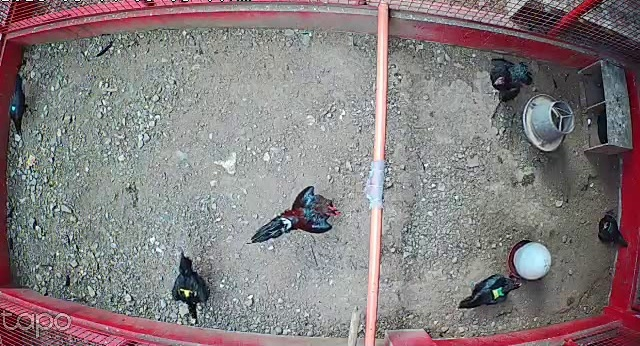Chicken: (164, 249, 214, 323), (454, 268, 522, 311), (485, 58, 535, 105), (599, 215, 631, 248)
Rooster: (246, 183, 345, 244)
Saddle_Color_Yellow: (180, 286, 198, 298)
Saddle_Color_YellowGreen: (492, 286, 504, 298)
